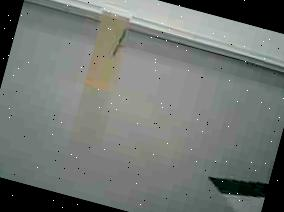Bottle A: (72, 0, 146, 105)
